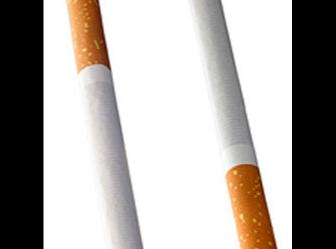Cigarette: (184, 0, 281, 249), (64, 0, 145, 249)
